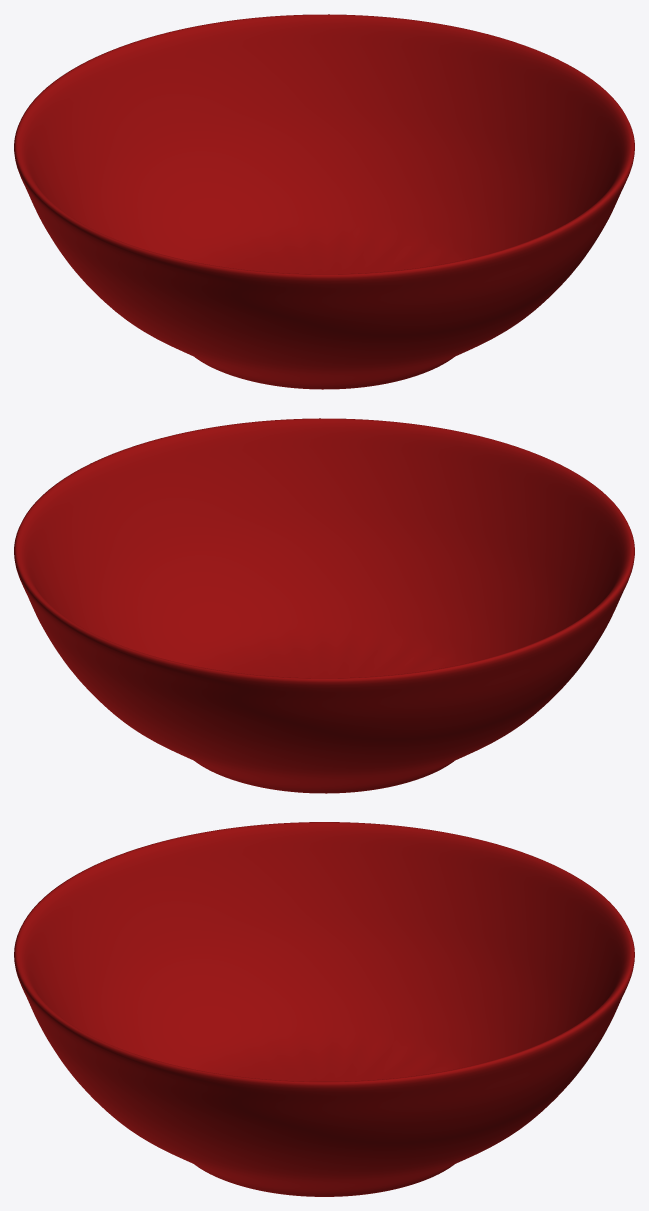
Rendered from bowl.glb.
3 renders of one model, top to bottom at view 1: azimuth 30°, elevation 25°; view 2: azimuth 150°, elevation 25°; view 3: azimuth 270°, elevation 25°, orthographic.
Parts seen in each view (by area): view 1: Cylinder; view 2: Cylinder; view 3: Cylinder.
Boxes of the visible parts, x1,y1,x2,y2 form: Cylinder: [14, 14, 634, 389]; Cylinder: [14, 418, 634, 793]; Cylinder: [14, 822, 634, 1196].
Bounding box in the file's own units: 0.9562 × 0.3116 × 0.9562.
